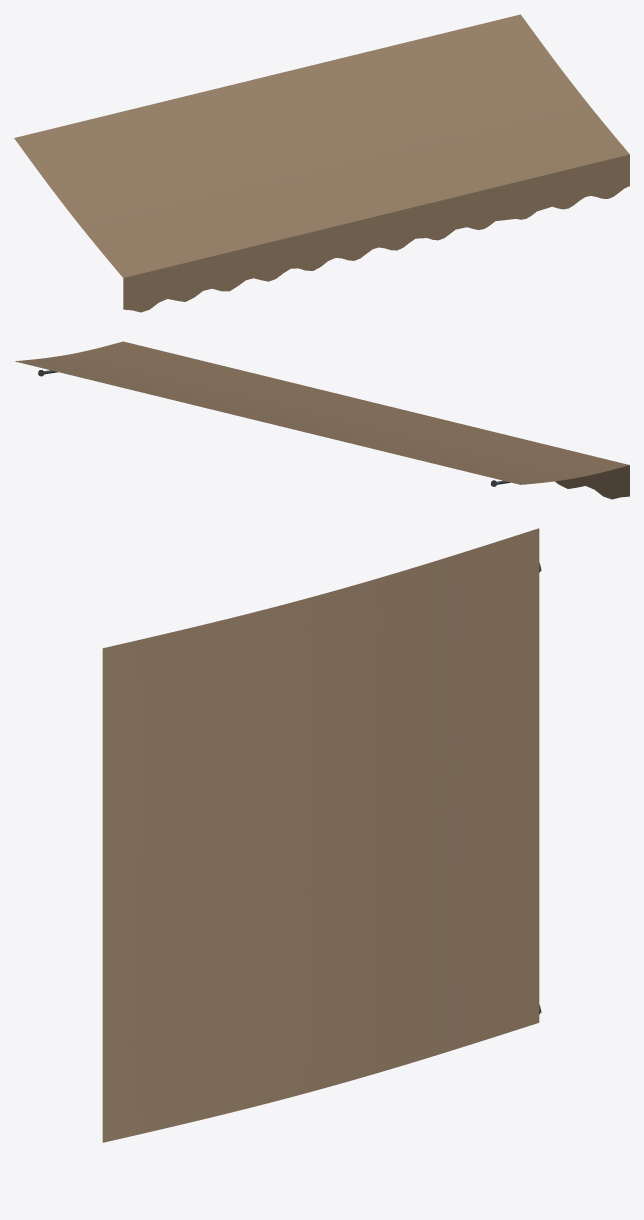
The model's file is shop-awning.glb.
3 views of the same model, one above another, from view 1: azimuth 30°, elevation 25°; view 2: azimuth 150°, elevation 25°; view 3: azimuth 270°, elevation 25° (orthographic). The views are drawn at different scales.
Visible parts, largest first — view 1: CC0_surface_sloped_awning, CC0_surface_fabric_valance; view 2: CC0_surface_sloped_awning, CC0_surface_fabric_valance; view 3: CC0_surface_sloped_awning.
Part boxes in pixels (left/top/right/bottom): CC0_surface_sloped_awning: left=14, top=14, right=629, bottom=277; CC0_surface_fabric_valance: left=123, top=154, right=629, bottom=312; CC0_surface_sloped_awning: left=15, top=341, right=629, bottom=484; CC0_surface_fabric_valance: left=555, top=465, right=629, bottom=499; CC0_surface_sloped_awning: left=102, top=528, right=539, bottom=1142.
Size of the model in its own units: 3 by 0.562 by 1.13.
